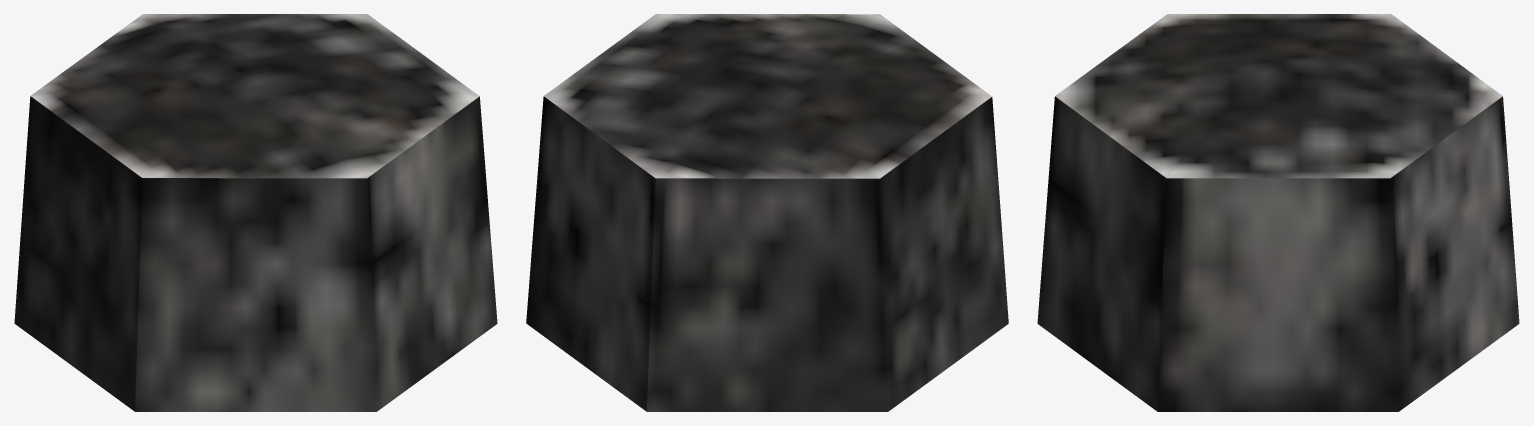
File: p_rus_angle_plate_bolt_lod2.glb
The picture shows the model from 3 angles, left to right: view 1: azimuth 30°, elevation 25°; view 2: azimuth 150°, elevation 25°; view 3: azimuth 270°, elevation 25°; orthographic projection.
Parts seen in each view (by area): view 1: surf0; view 2: surf0; view 3: surf0.
Boxes of the visible parts, x1=… form: surf0: x1=14, y1=14, x2=497, y2=411; surf0: x1=526, y1=14, x2=1008, y2=411; surf0: x1=1037, y1=14, x2=1519, y2=411.
Size of the model in its own units: 1.72 by 1.13 by 1.98.
